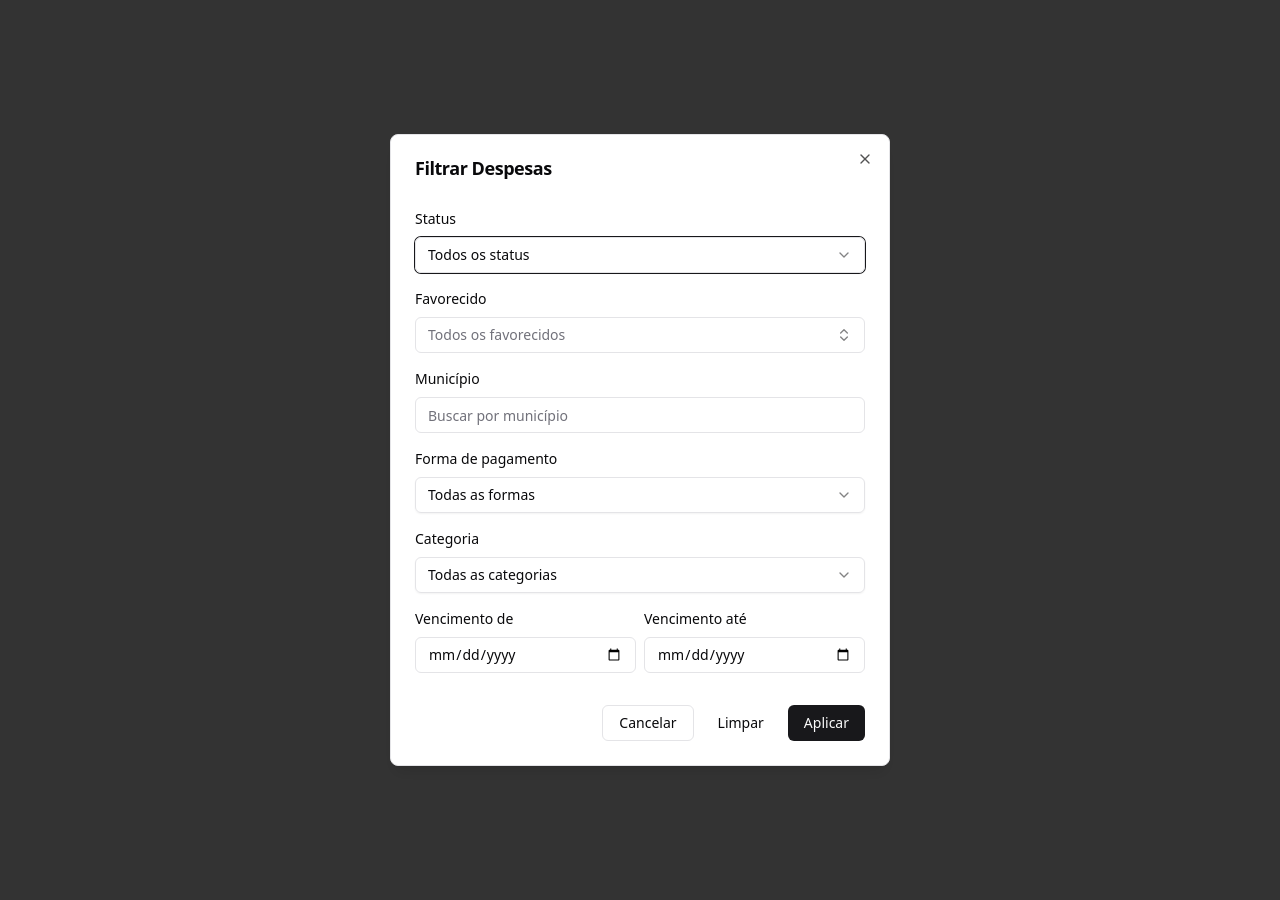
Test: FilterModal › deve manter as alterações apenas no rascunho até o clique em Aplicar
What coordinates should you click on to do the following:
click the dropdown with test id "filter-payment-method"
I would click on:
 (482, 494)
Its box is [415,477,865,513].
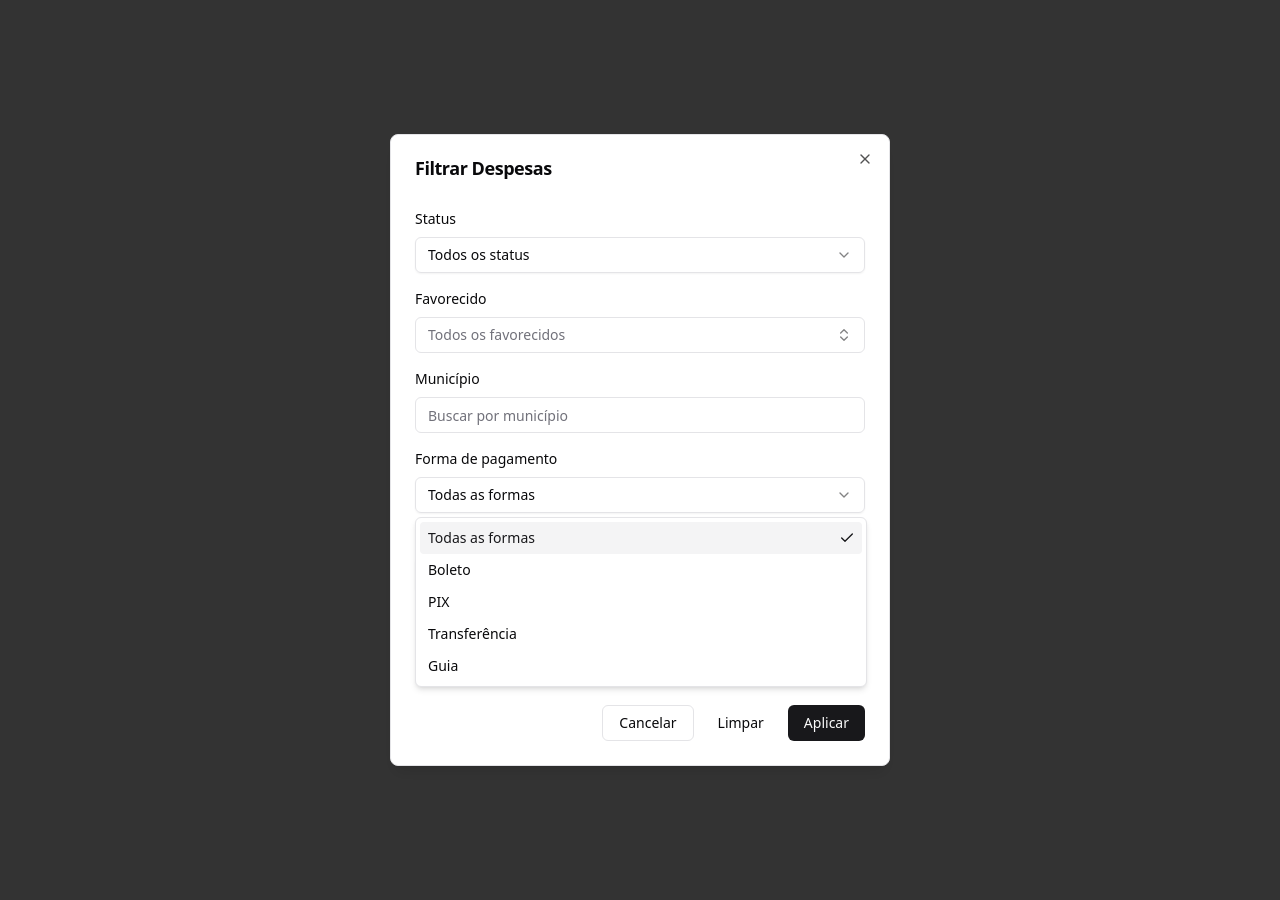
What coordinates should you click on to do the following:
click the option "Boleto"
I would click on:
 (449, 570)
Its box is [428,560,471,579].
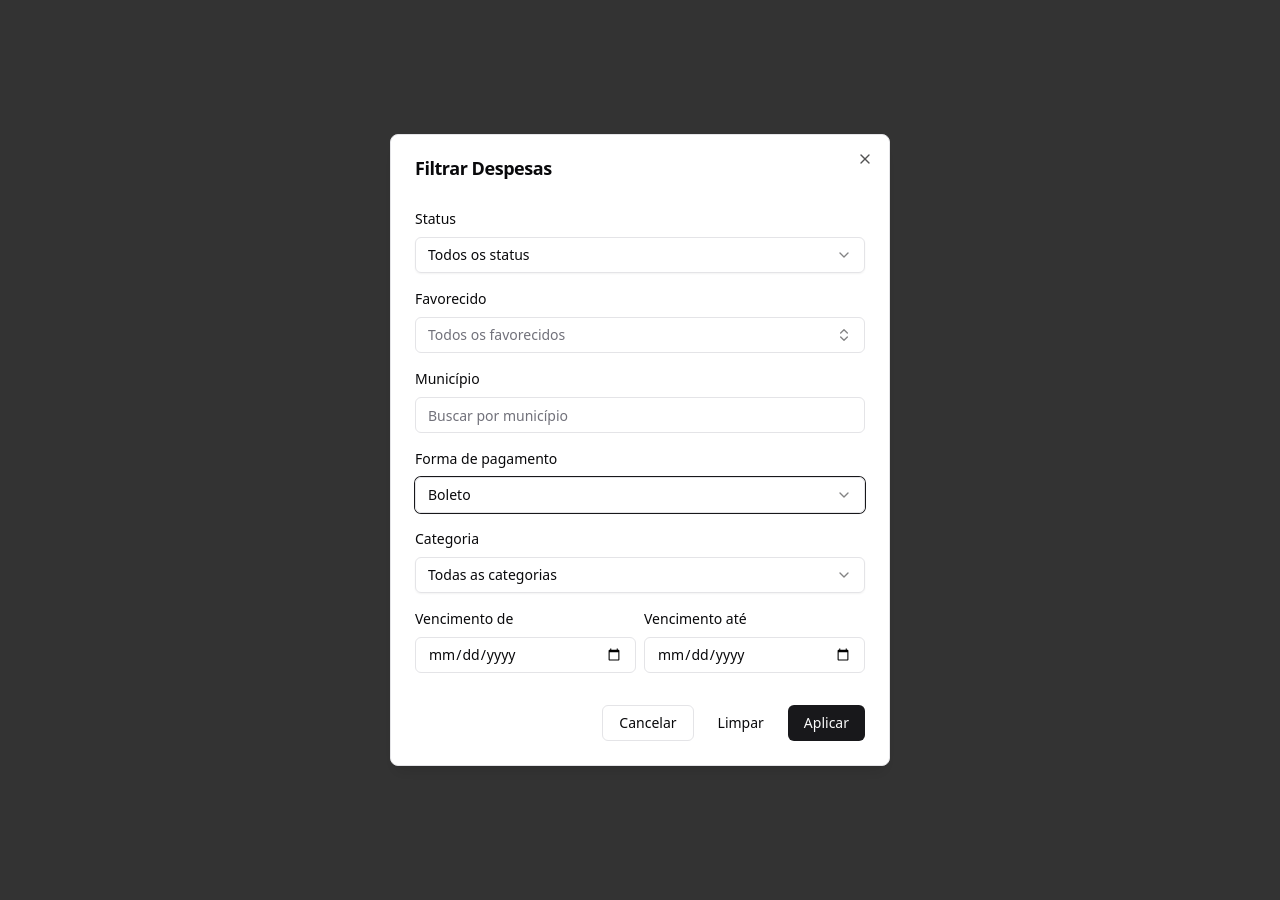
Now the dropdown with test id "filter-payment-method" reads "Boleto", box [415,477,865,513]
